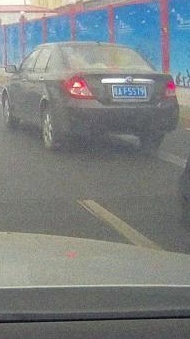L_light: (67, 76, 94, 99)
R_light: (161, 78, 177, 99)
T_light: (96, 46, 110, 50)
day-left: (58, 41, 180, 151)
